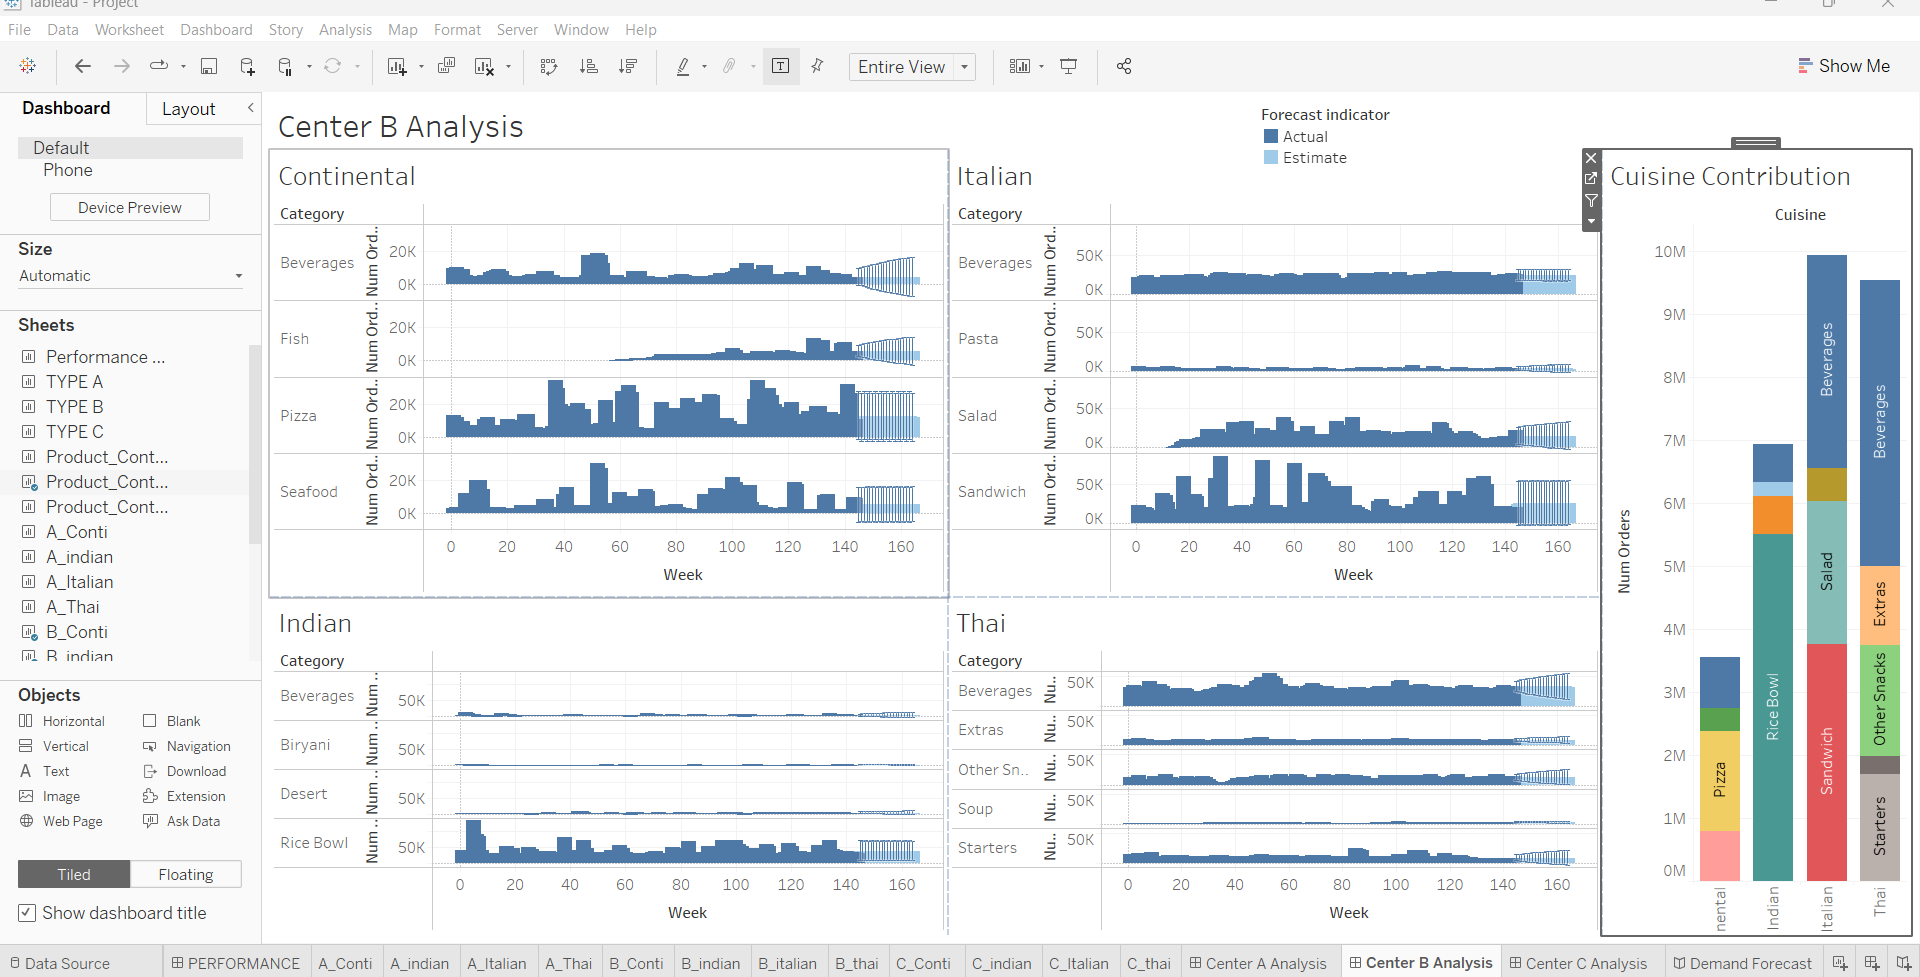

Layout of this report page (visuals, bound fields, positions):
{"tool":"tableau","page":{"name":"Center B Analysis","canvas":[1000,1000],"units":"permille","ordinal":1},"visuals":[{"type":"worksheet","title":"B_Conti","mark":"Bar","rows":["category","num_orders"],"cols":["week"],"box":[4.3,9.4,409.8,558.1]},{"type":"worksheet","title":"B_italian","mark":"Bar","rows":["category","num_orders"],"cols":["week"],"box":[414.1,9.4,395.1,558.1]},{"type":"worksheet","title":"Product_Contri_B","mark":"Automatic","rows":["num_orders"],"cols":["cuisine"],"box":[809.1,9.4,186.5,981.2]},{"type":"legend","title":"B_Conti","param":"[federated.02gnjzc1abb3r21g8mcvu0128urh].[none:Forecast Indicator:nk]","box":[602.9,14.1,116.3,92.8]},{"type":"worksheet","title":"B_indian","mark":"Bar","rows":["category","num_orders"],"cols":["week"],"box":[4.3,567.6,409.8,423.1]},{"type":"worksheet","title":"B_thai","mark":"Bar","rows":["category","num_orders"],"cols":["week"],"box":[414.1,567.6,395.1,423.1]}]}

Visuals, with their boxes on the dashboard's canvas, which has no fixed pixel size, in thousandths of its width and height (x1, y1, x2, y2). These are canvas units, not pixel positions in the 1920x977 screenshot, which may show the page scaled, cropped or inside an application window:
"B_Conti" worksheet (Bar marks): locate(4, 9, 414, 568)
"B_italian" worksheet (Bar marks): locate(414, 9, 809, 568)
"Product_Contri_B" worksheet: locate(809, 9, 996, 991)
"B_Conti" legend: locate(603, 14, 719, 107)
"B_indian" worksheet (Bar marks): locate(4, 568, 414, 991)
"B_thai" worksheet (Bar marks): locate(414, 568, 809, 991)
